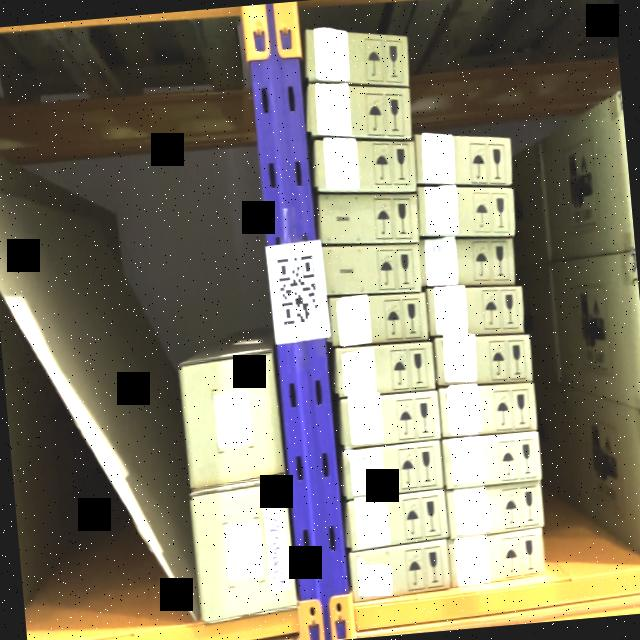box: (190, 486, 296, 616), (178, 352, 284, 480), (304, 28, 410, 87), (304, 83, 411, 140), (342, 493, 450, 548), (440, 431, 542, 489), (328, 290, 429, 348), (330, 342, 436, 397), (336, 391, 442, 444), (439, 381, 538, 436), (313, 138, 419, 189), (418, 236, 516, 290), (426, 284, 526, 336), (317, 192, 419, 242), (340, 444, 444, 493), (434, 334, 534, 384), (446, 484, 546, 534), (323, 246, 423, 296), (447, 532, 544, 580), (417, 188, 515, 234), (350, 546, 451, 590), (414, 140, 512, 182)
